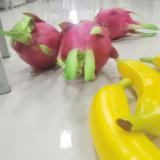pitaya: (58, 21, 117, 80), (12, 20, 61, 72), (93, 8, 146, 40)
